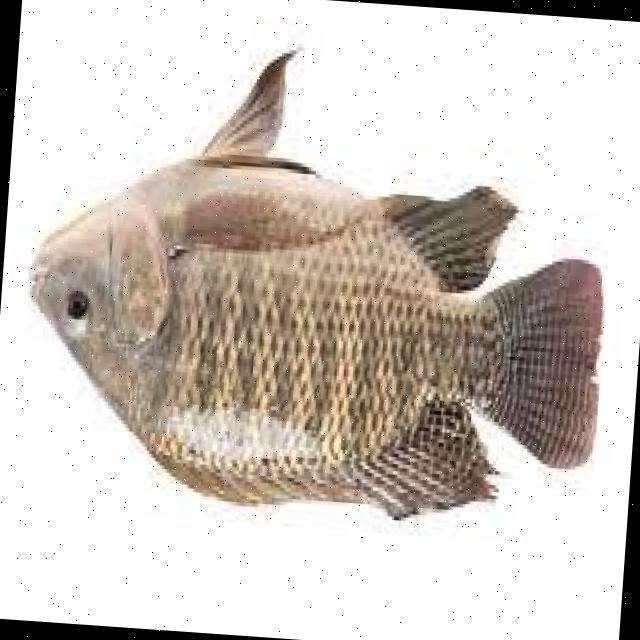ikan: (12, 33, 624, 541)
